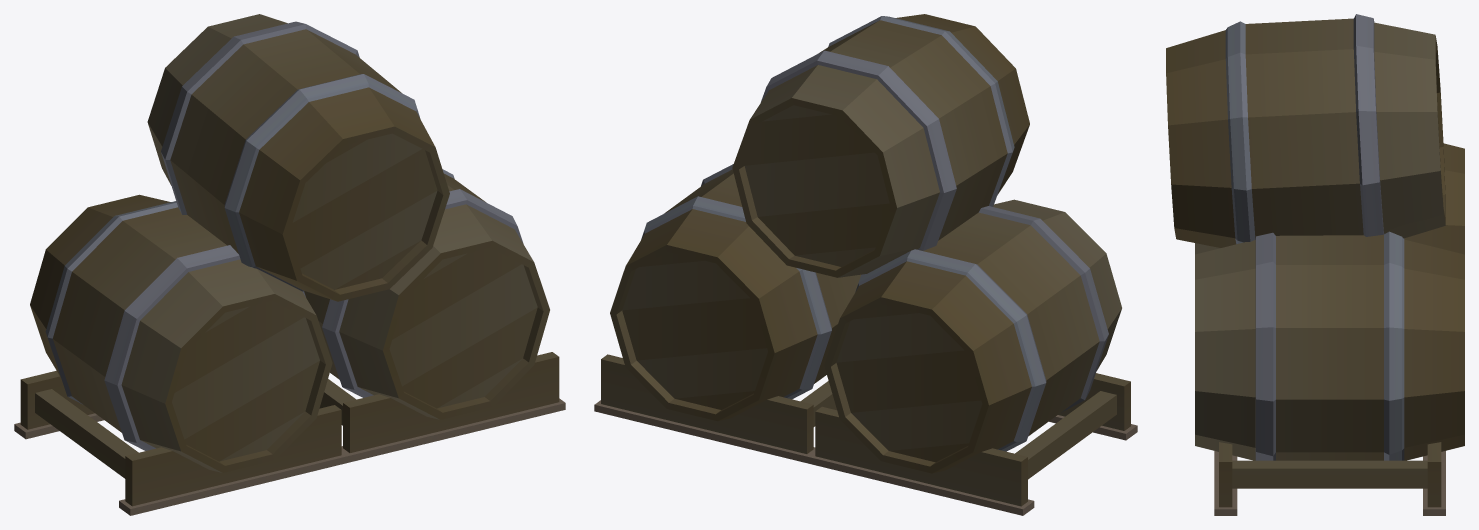
Rendered from Barrel_2B.fbx.
3 views of the same model, side by side, from view 1: azimuth 30°, elevation 25°; view 2: azimuth 150°, elevation 25°; view 3: azimuth 270°, elevation 25° (orthographic).
Parts seen in each view (by area): view 1: polySurface9640; view 2: polySurface9640; view 3: polySurface9640.
Boxes of the visible parts, <box> form: polySurface9640: <box>14,14,565,515</box>; polySurface9640: <box>594,14,1137,515</box>; polySurface9640: <box>1166,14,1464,515</box>.
Bounding box in the file's own units: 312 × 260 × 186.
